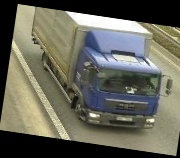truck: (19, 6, 180, 136)
